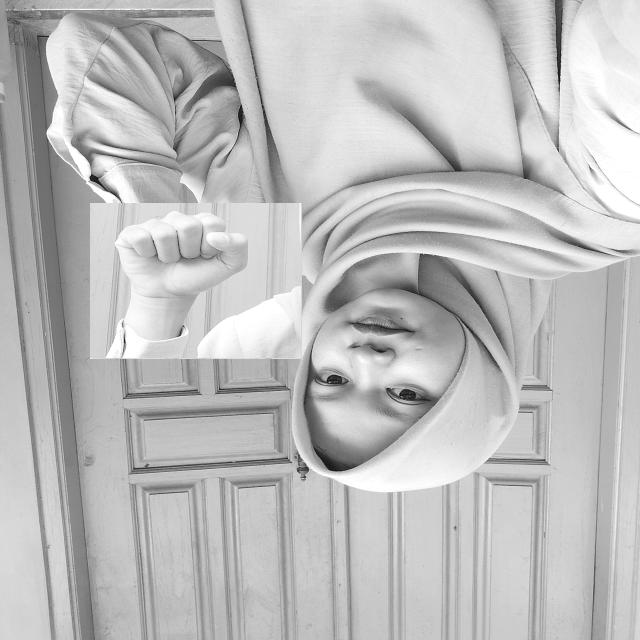baik: (90, 203, 302, 359)
